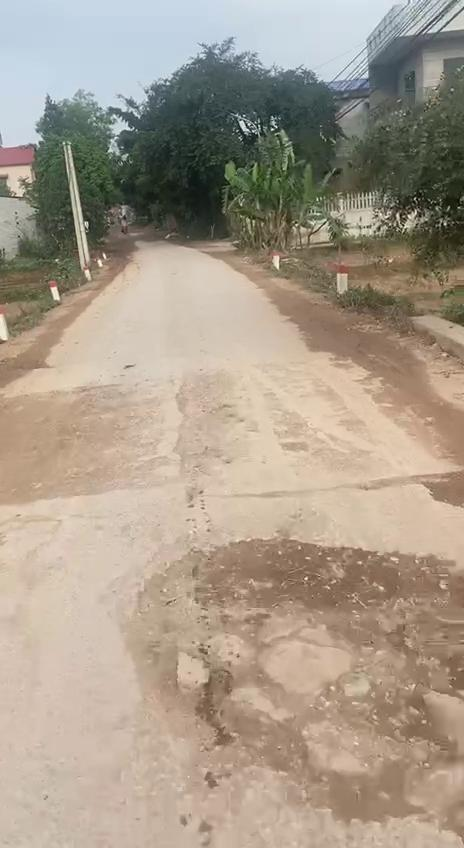pothole: (130, 540, 464, 846)
